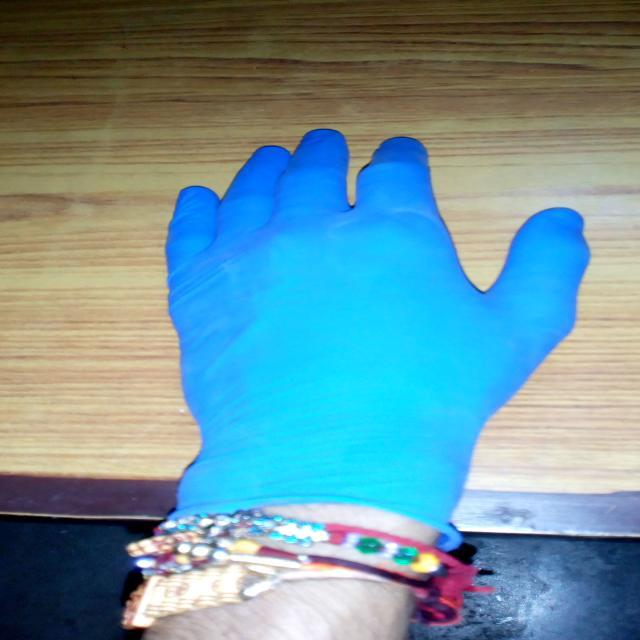glove_hand: (143, 118, 592, 531)
